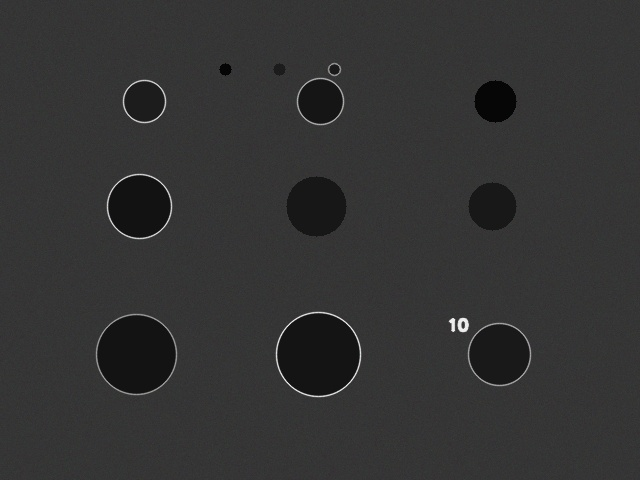hole: (276, 312, 360, 396), (96, 314, 176, 394), (107, 174, 171, 238), (468, 323, 530, 385), (286, 176, 346, 236), (468, 182, 516, 230), (297, 78, 343, 124), (123, 80, 165, 122), (474, 80, 516, 122), (219, 63, 231, 75), (273, 63, 285, 75), (328, 63, 340, 75)
